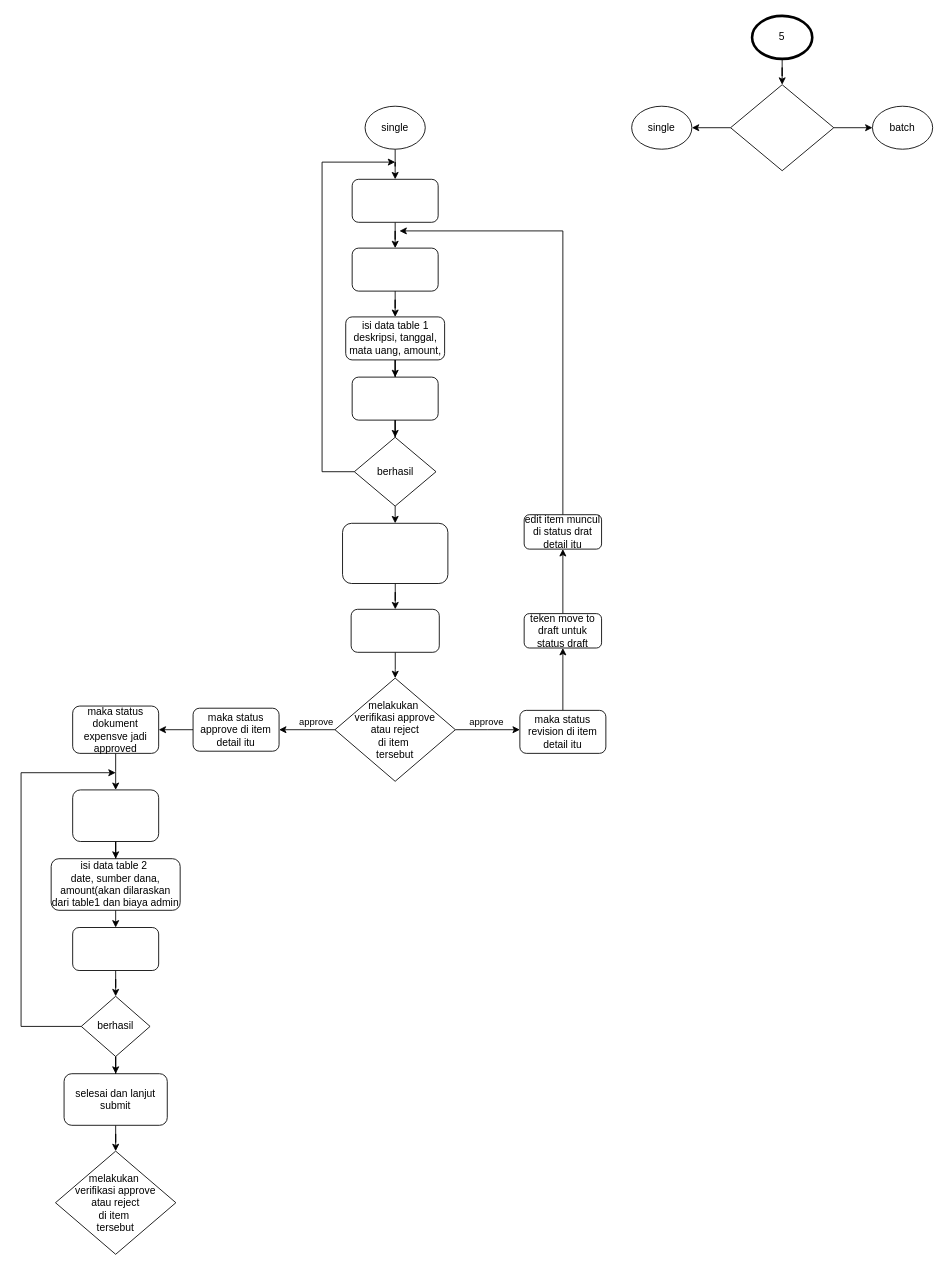
Image size: 948x1269. Some labels were removed from this diagram. The shapes that lost their labels are listed below. From the top down, each one's centre as x and y in pixels, then its label:
At point 782,127: "settlment di bikin single atau batch".
At point 394,200: "tambah expense".
At point 394,269: "pilih kategori dan subkategori".
At point 394,398: "tambahakn file evidance".
At point 395,553: "data berhasil di tambah ke database dan muncul di table 1".
At point 394,630: "teken submit maka status jadi submited".
At point 115,815: "lanjut table 2 untuk mengirim dana teken button edit di aksi".
At point 115,949: "dan tambah file evidance table 2".
